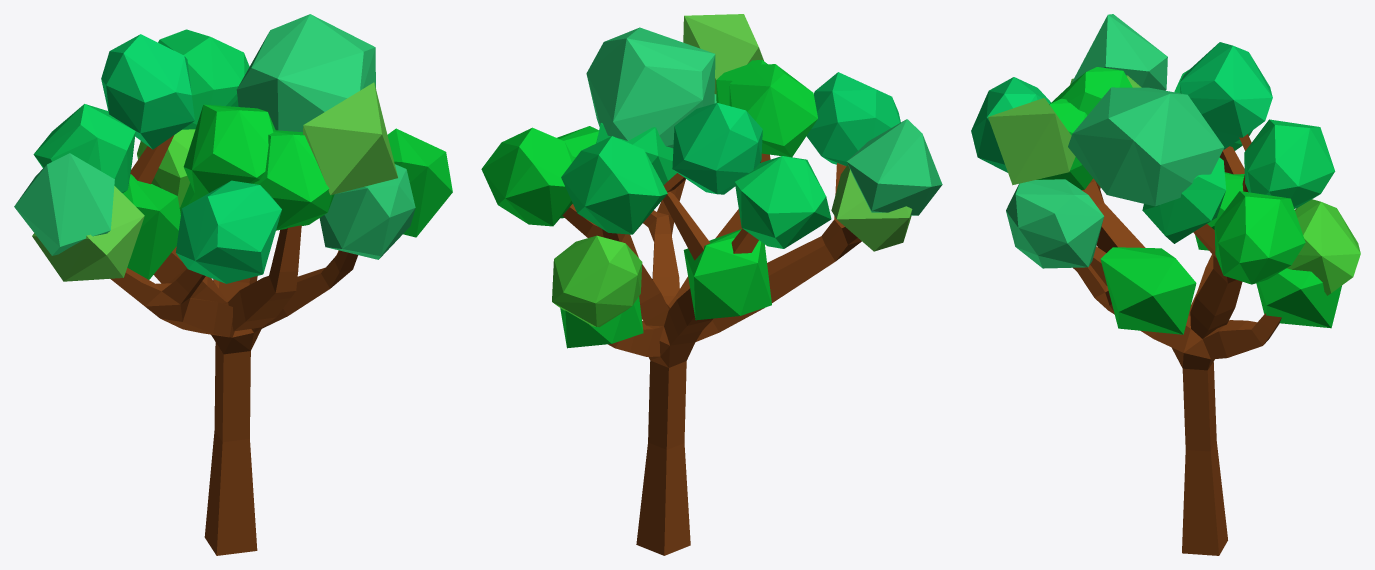
Rendered from Tree_1.fbx.
3 renders of one model, left to right at view 1: azimuth 30°, elevation 25°; view 2: azimuth 150°, elevation 25°; view 3: azimuth 270°, elevation 25°, orthographic. The views are drawn at different scales.
Visible parts, largest first — view 1: Branch, Leaf.009, Leaf.012, Leaf.004, Leaf.005, Leaf.010, Leaf.007, Leaf.013, Leaf.016, Leaf.006, Leaf.003, Leaf.008 (+3 smaller); view 2: Branch, Leaf.009, Leaf.008, Leaf.006, Leaf, Leaf.004, Leaf.002, Leaf.005, Leaf.015, Leaf.012, Leaf.007, Leaf.010 (+5 smaller); view 3: Branch, Leaf.009, Leaf.013, Leaf.014, Leaf, Leaf.004, Leaf.008, Leaf.010, Leaf.002, Leaf.005, Leaf.017, Leaf.001 (+4 smaller).
Part boxes in pixels (x1,y1,x2,y2): Branch: (110,135,358,555); Leaf.009: (236,14,375,132); Leaf.012: (176,180,281,283); Leaf.004: (101,34,194,149); Leaf.005: (14,153,114,255); Leaf.010: (303,82,397,195); Leaf.007: (183,104,275,197); Leaf.013: (319,164,415,259); Leaf.016: (253,130,334,230); Leaf.006: (33,104,135,193); Leaf.003: (32,186,144,281); Leaf.008: (158,29,249,129); Branch: (562,153,861,555); Leaf.009: (586,27,715,148); Leaf.008: (561,136,667,234); Leaf.006: (735,156,831,248); Leaf: (481,127,574,226); Leaf.004: (672,103,762,194); Leaf.002: (552,235,642,327); Leaf.005: (846,119,942,215); Leaf.015: (683,229,771,320); Leaf.012: (806,72,900,166); Leaf.007: (729,64,817,157); Leaf.010: (683,14,763,94); Branch: (1073,134,1281,555); Leaf.009: (1068,87,1224,206); Leaf.013: (1006,179,1104,268); Leaf.014: (1100,247,1196,334); Leaf: (1214,191,1305,284); Leaf.004: (1179,42,1272,149); Leaf.008: (1244,119,1335,208); Leaf.010: (988,98,1075,185); Leaf.002: (1287,199,1360,295); Leaf.005: (1071,14,1167,90); Leaf.017: (1256,268,1341,328); Leaf.001: (1142,157,1226,243).
Bounding box in the file's own units: 330 × 378 × 278.
